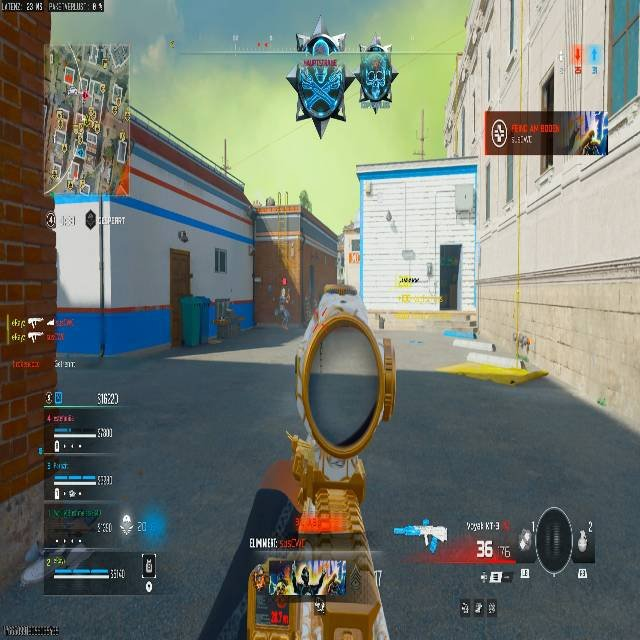player: (284, 31, 368, 140), (274, 293, 291, 331)
